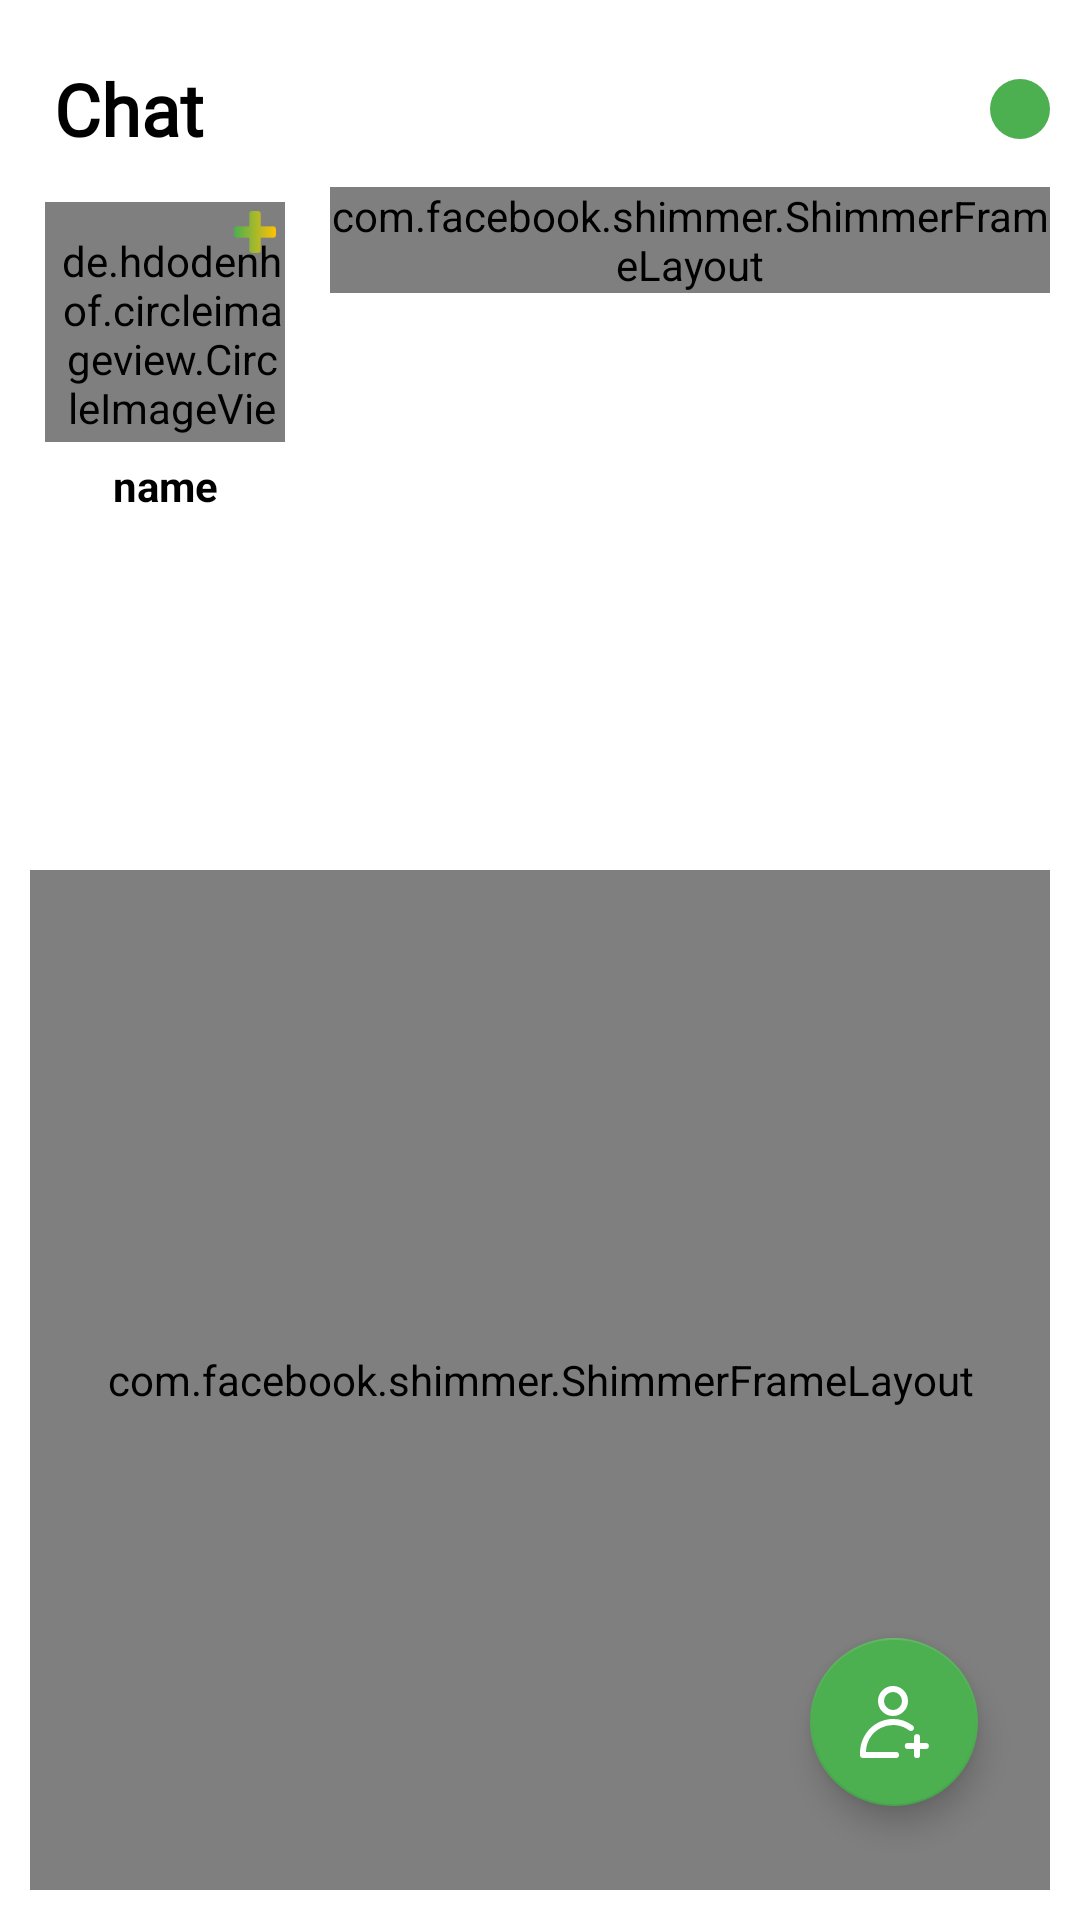

Icons on this 1080×1920 Android screen, each with the point to tap as (x,y):
plussh: (255,232)
select usersh: (894,1722)
